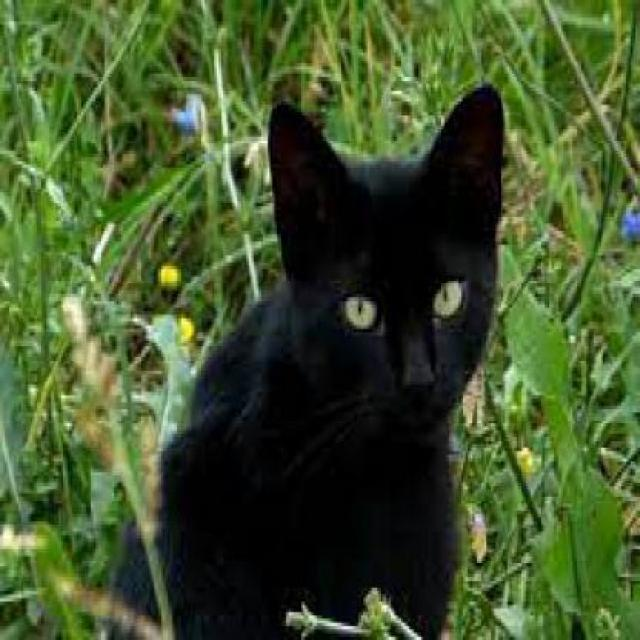animals: (198, 59, 510, 588)
